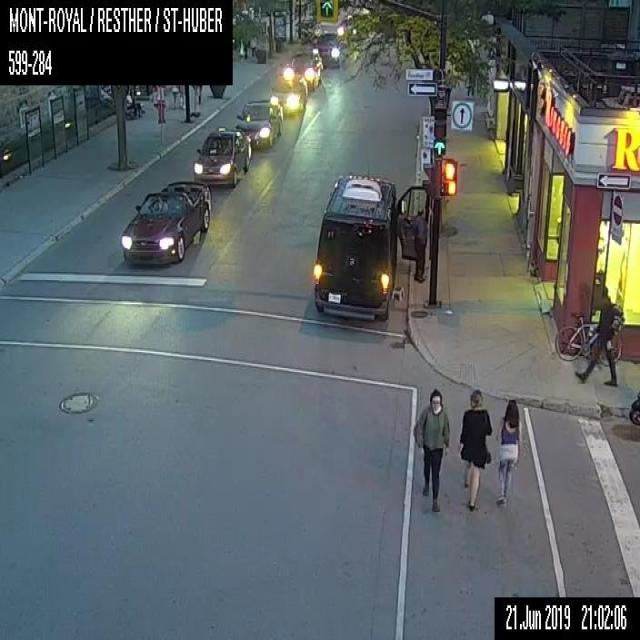pedestrian: (413, 387, 451, 512), (573, 283, 618, 387), (457, 387, 494, 512), (495, 397, 520, 508), (412, 207, 428, 283)
vehicle: (313, 175, 428, 323), (119, 180, 210, 267), (192, 127, 250, 187), (234, 101, 282, 149), (284, 52, 322, 93), (269, 75, 307, 116), (312, 29, 348, 67)
